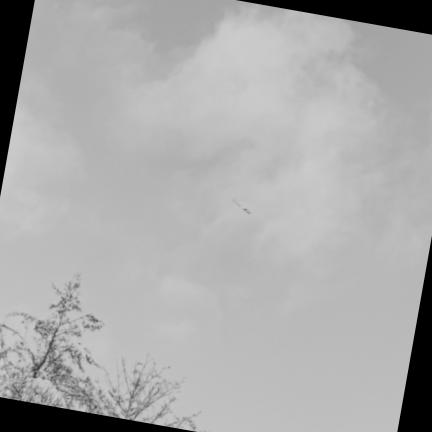Shahed: (232, 198, 251, 214)
